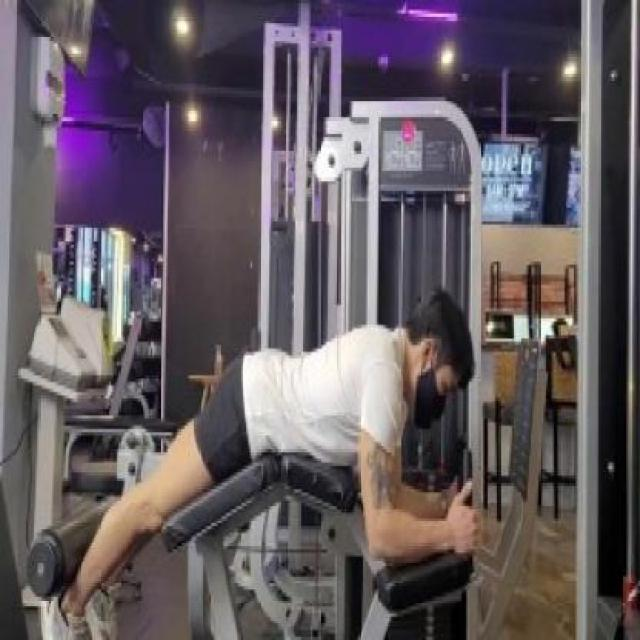reg curl machine: (23, 104, 497, 640)
